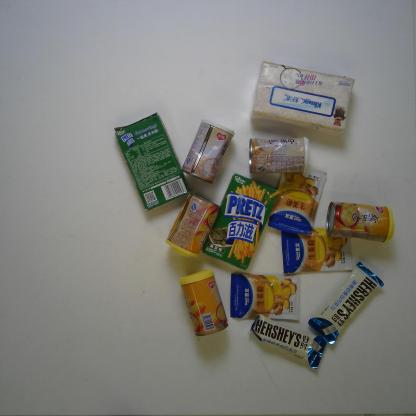Canned Food: (164, 190, 224, 261), (182, 117, 238, 190), (175, 267, 229, 338), (323, 198, 396, 246), (244, 135, 312, 177)
Chocolate: (309, 262, 392, 345), (249, 306, 330, 374)
Dessert: (112, 110, 192, 214), (205, 171, 283, 269)
Seasoner: (226, 269, 306, 326), (268, 162, 327, 237), (278, 223, 354, 273)
Tissue: (249, 60, 356, 133)
